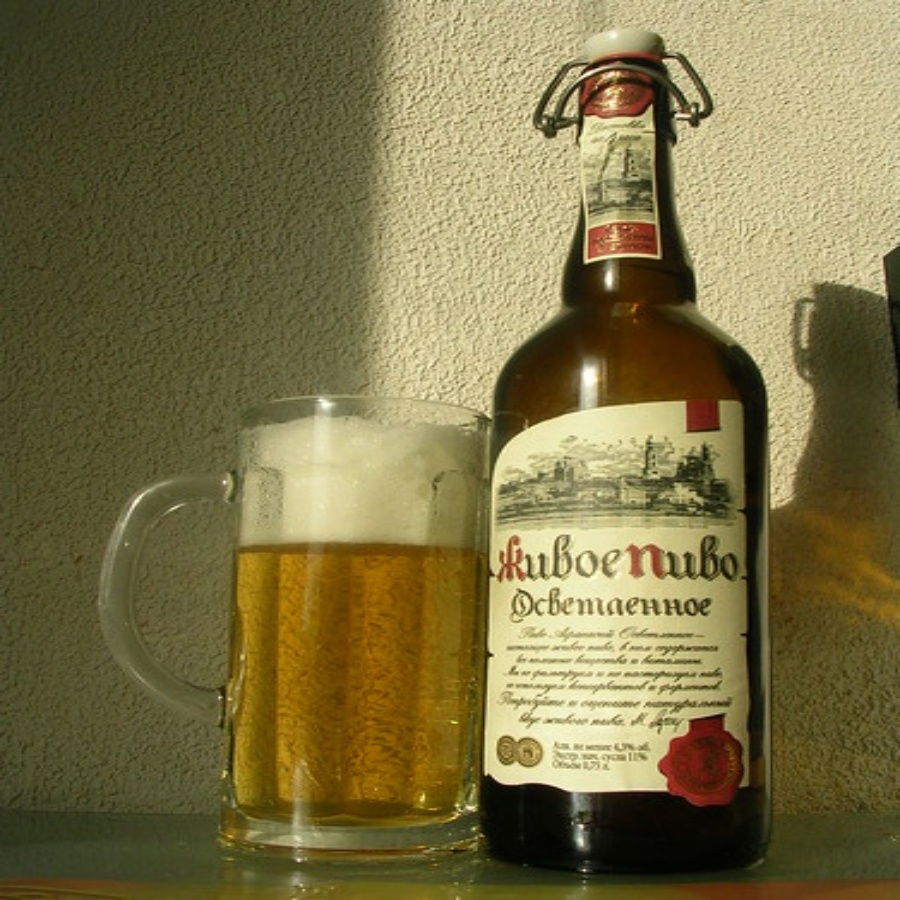beer: (487, 17, 768, 874)
